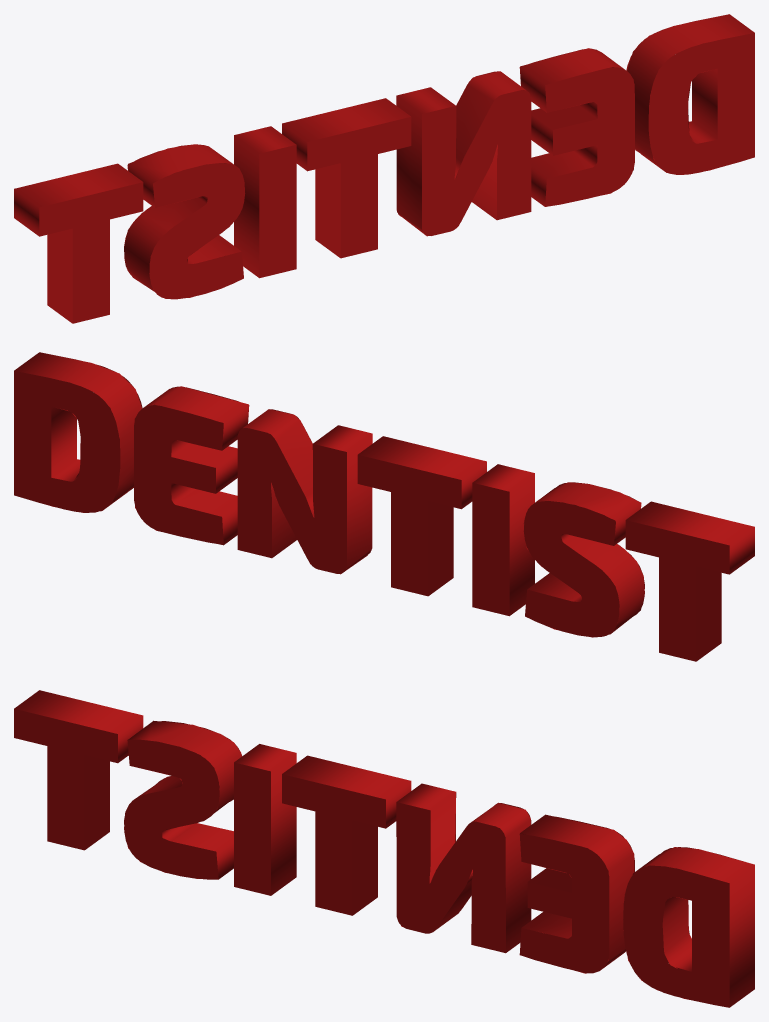
File: dentist.fbx
The picture shows the model from 3 angles, top to bottom: view 1: azimuth 30°, elevation 25°; view 2: azimuth 150°, elevation 25°; view 3: azimuth 330°, elevation 25°; orthographic projection.
Visible parts, largest first — view 1: Text; view 2: Text; view 3: Text.
Part boxes in pixels (x1,y1,x2,y2): Text: (14,14,754,323); Text: (14,352,754,661); Text: (14,690,754,1007).
Bounding box in the file's own units: 13 × 2.26 × 0.8.
